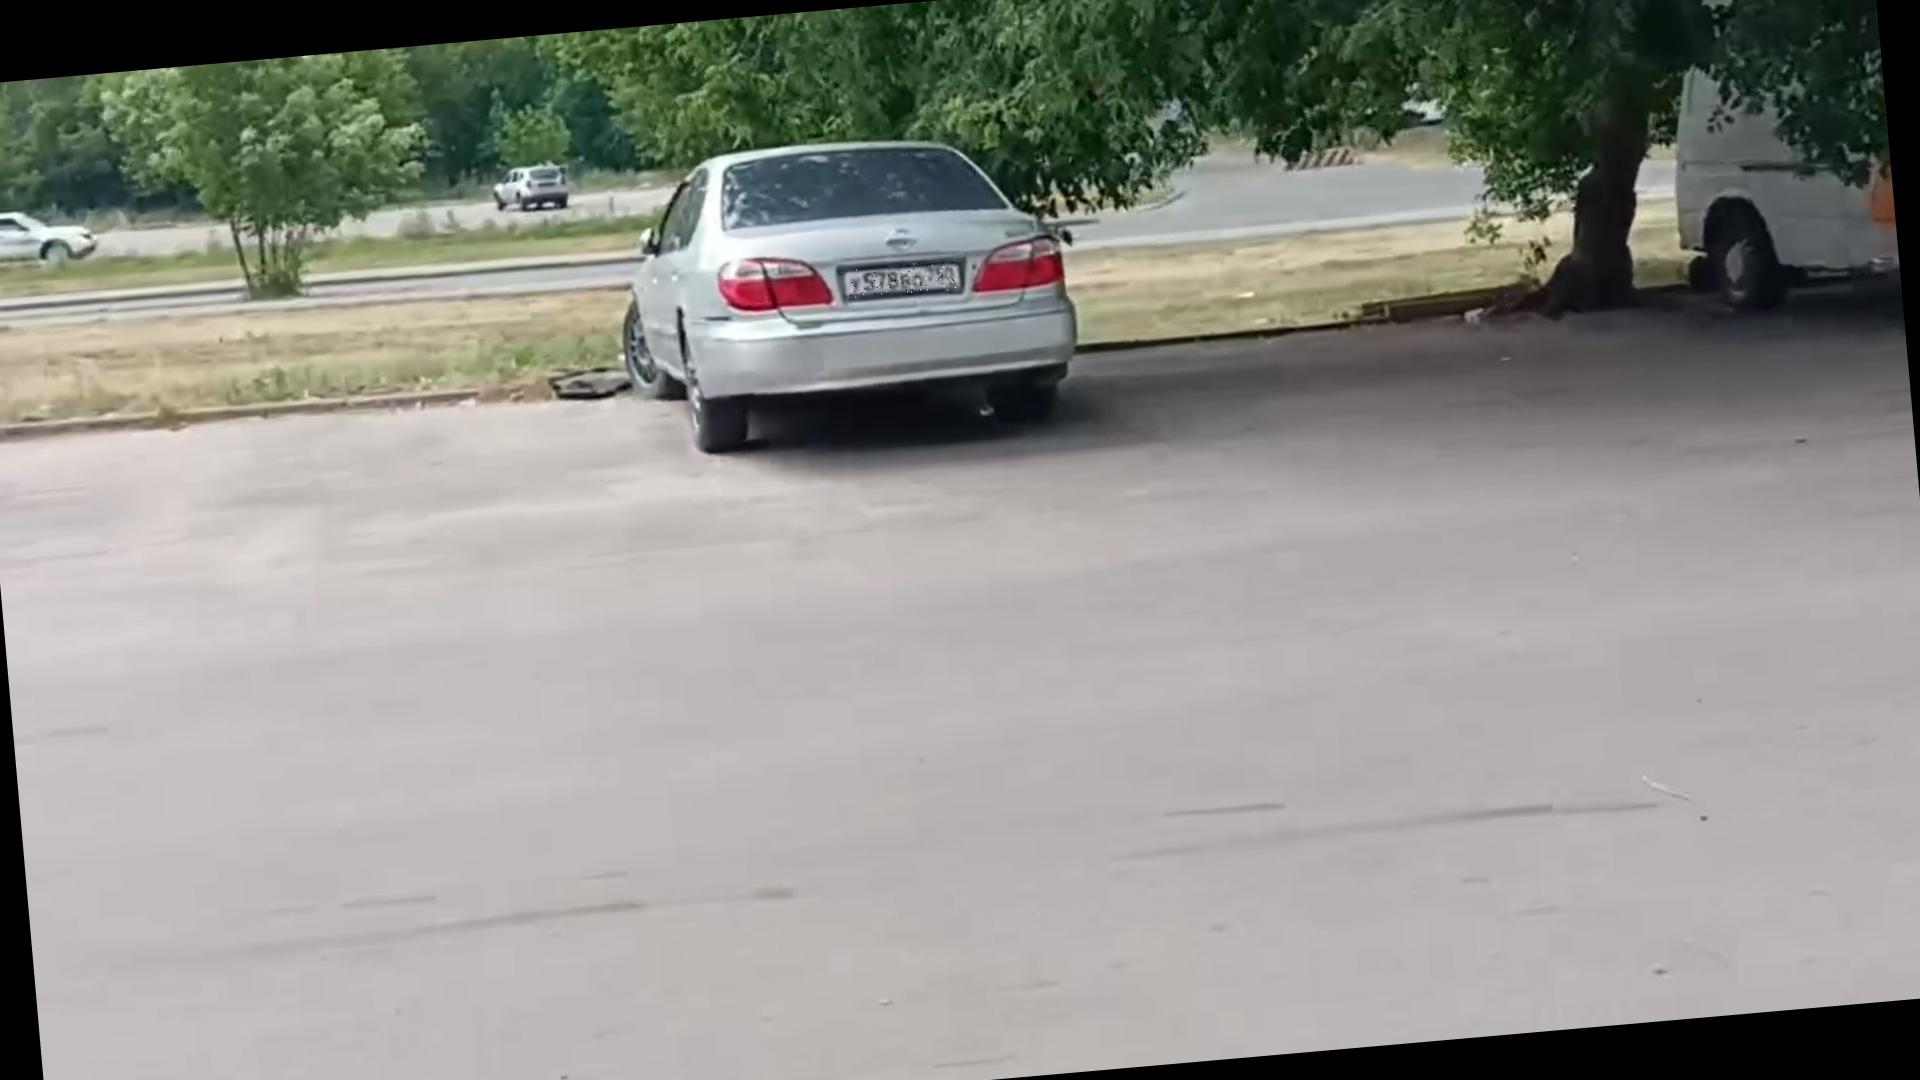plate: (849, 260, 958, 301)
